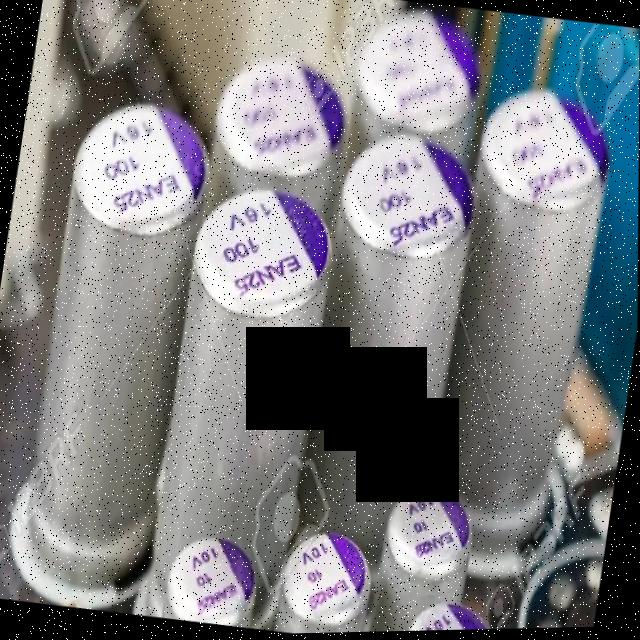capacitor 1V5: (2, 76, 219, 613), (421, 68, 640, 560), (151, 156, 347, 567), (300, 118, 489, 499), (202, 24, 355, 203), (347, 0, 492, 152), (372, 468, 486, 609), (271, 511, 383, 635), (148, 520, 269, 632), (400, 589, 505, 633)
